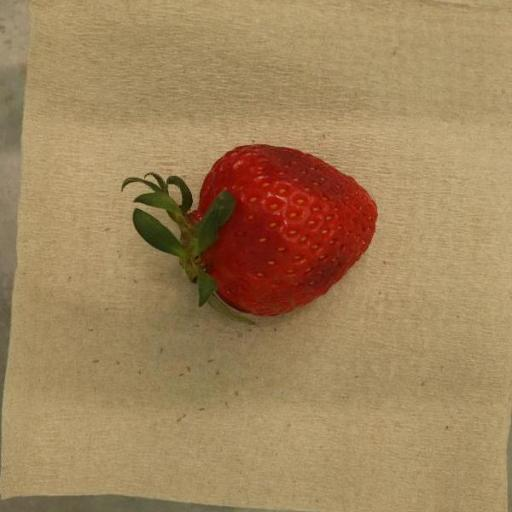Strawberry: (120, 145, 378, 317)
